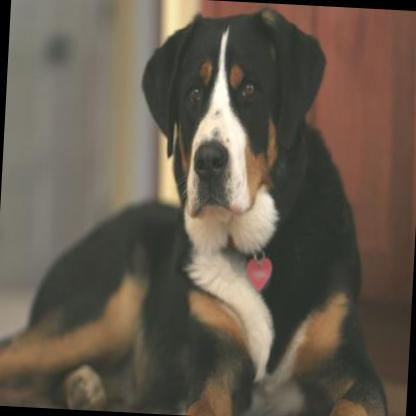Greater_Swiss_Mountain_dog: (0, 0, 411, 416)
